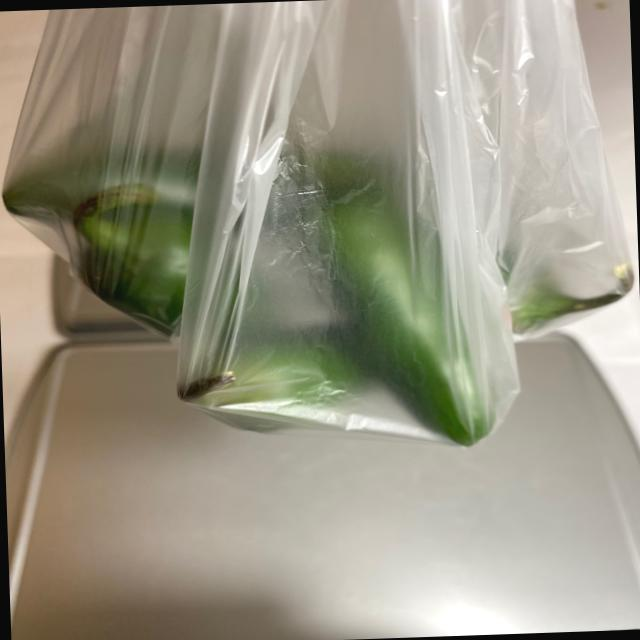chilli: (5, 112, 640, 468)
